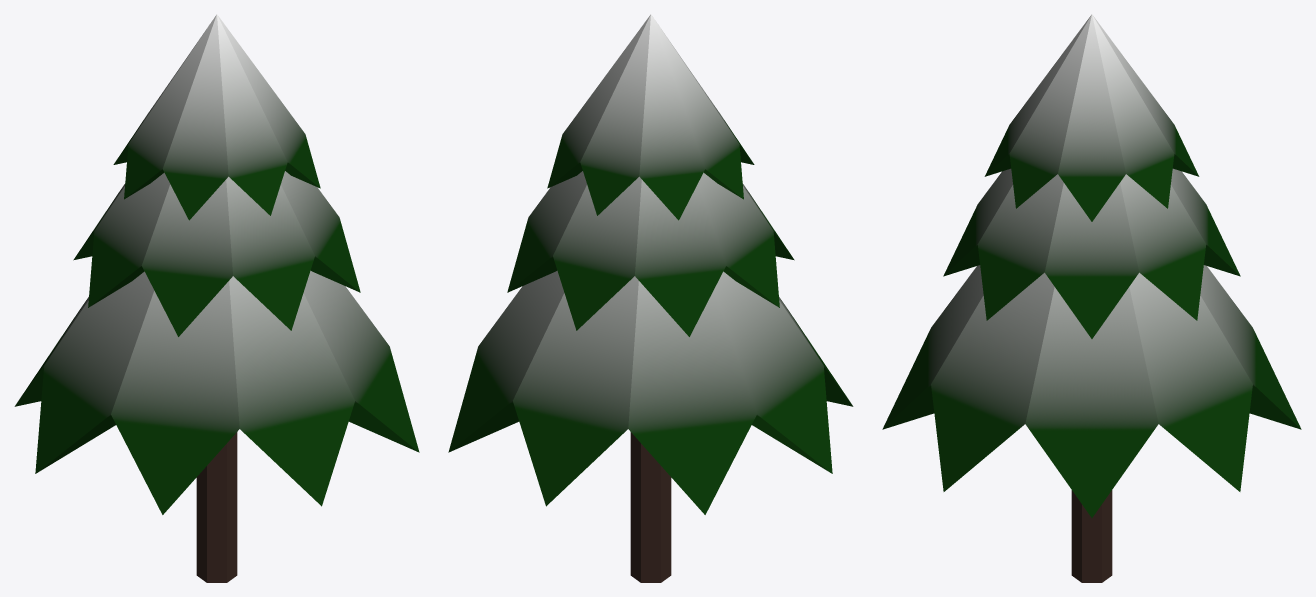
File: Tree1.glb
The picture shows the model from 3 angles, left to right: view 1: azimuth 30°, elevation 25°; view 2: azimuth 150°, elevation 25°; view 3: azimuth 270°, elevation 25°; orthographic projection.
Visible parts, largest first — view 1: Leaves.003, Leaves.002, Leaves.001, Wood; view 2: Leaves.003, Leaves.002, Leaves.001, Wood; view 3: Leaves.003, Leaves.002, Leaves.001, Wood.
Part boxes in pixels (box(x1,y1,x2,y2)): Leaves.003: box(14, 270, 419, 514); Leaves.002: box(73, 171, 360, 336); Leaves.001: box(113, 14, 320, 220); Wood: box(196, 432, 237, 582); Leaves.003: box(448, 270, 853, 514); Leaves.002: box(507, 171, 794, 336); Leaves.001: box(547, 14, 754, 220); Wood: box(630, 432, 671, 582); Leaves.003: box(882, 265, 1301, 517); Leaves.002: box(943, 168, 1240, 338); Leaves.001: box(984, 14, 1199, 221); Wood: box(1071, 490, 1112, 582).
Size of the model in its own units: 15.83 by 23.39 by 15.83.
2 materials, 2 textured.
